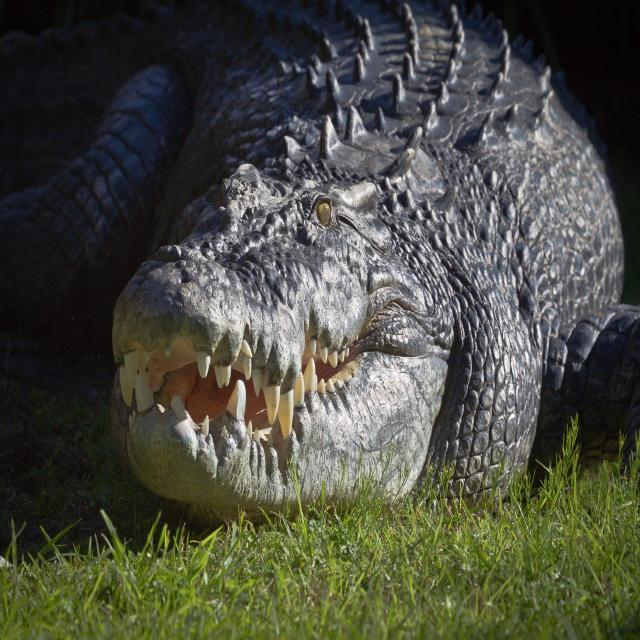crocodile: (0, 0, 640, 566)
